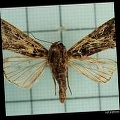Spodoptera litura: (3, 15, 117, 104)
